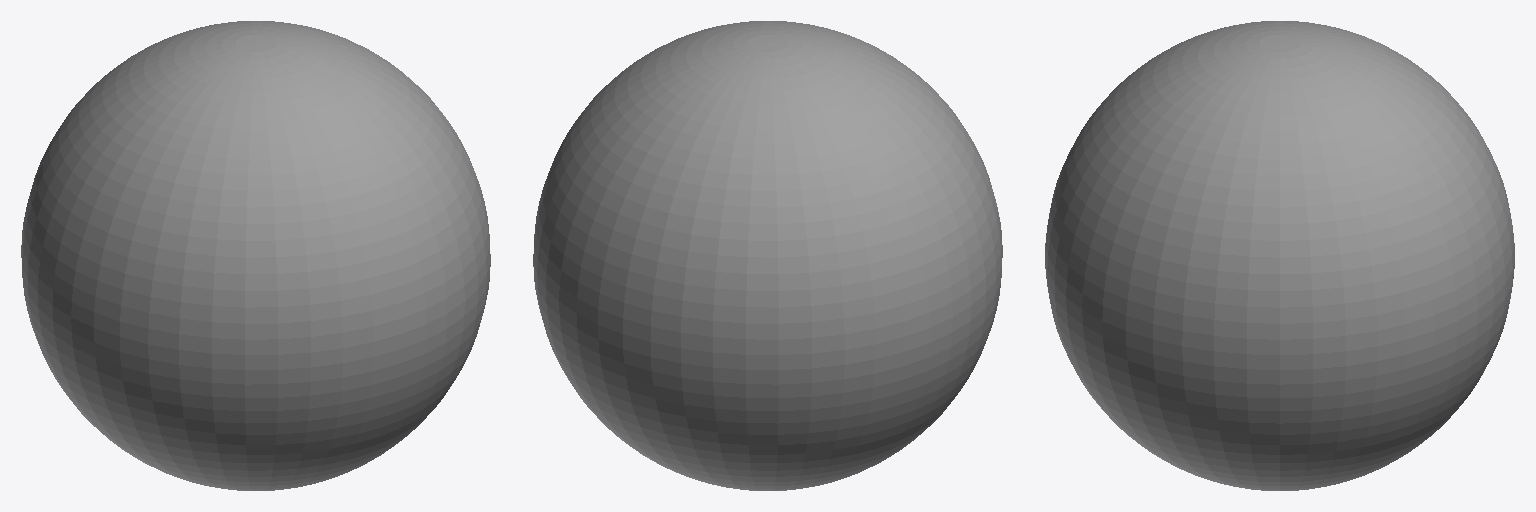
Rendered from sun2.obj.
3 views of the same model, side by side, from view 1: azimuth 30°, elevation 25°; view 2: azimuth 150°, elevation 25°; view 3: azimuth 270°, elevation 25° (orthographic).
Visible parts, largest first — view 1: Sun; view 2: Sun; view 3: Sun.
Boxes of the visible parts, x1=… form: Sun: x1=21, y1=21, x2=490, y2=490; Sun: x1=533, y1=21, x2=1002, y2=490; Sun: x1=1045, y1=21, x2=1514, y2=490.
Size of the model in its own units: 650 by 650 by 650.